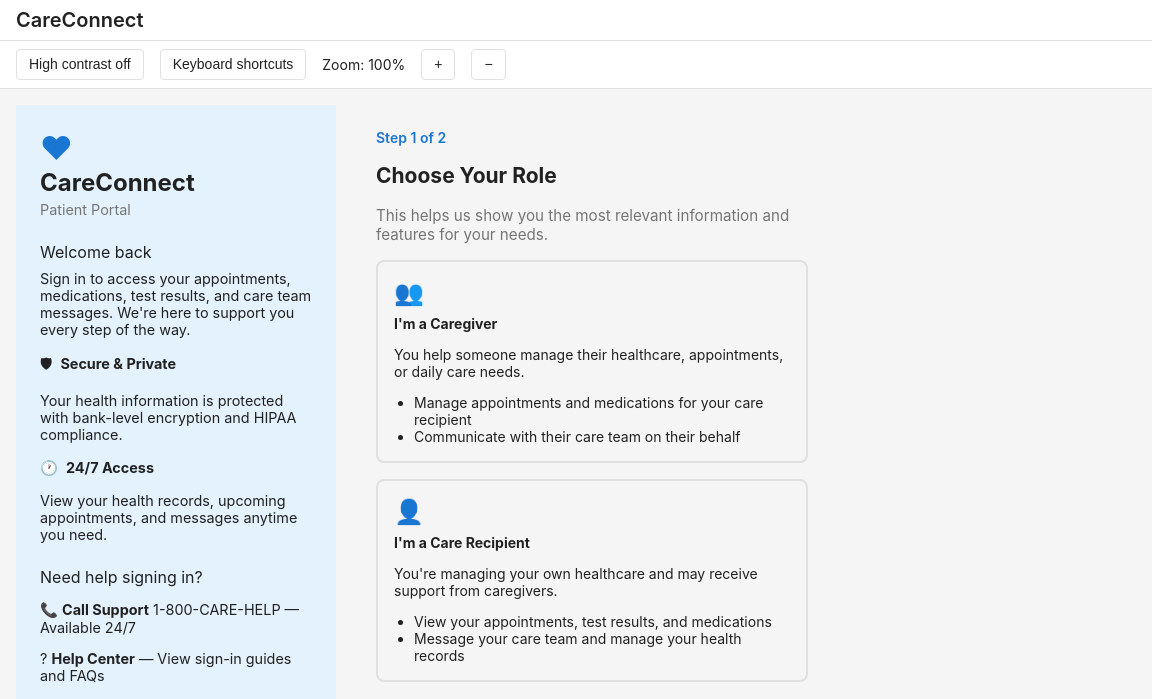
Toolbar › zoom in increases zoom display
Click the button named "zoom in".
click(438, 64)  # box [421, 49, 456, 80]
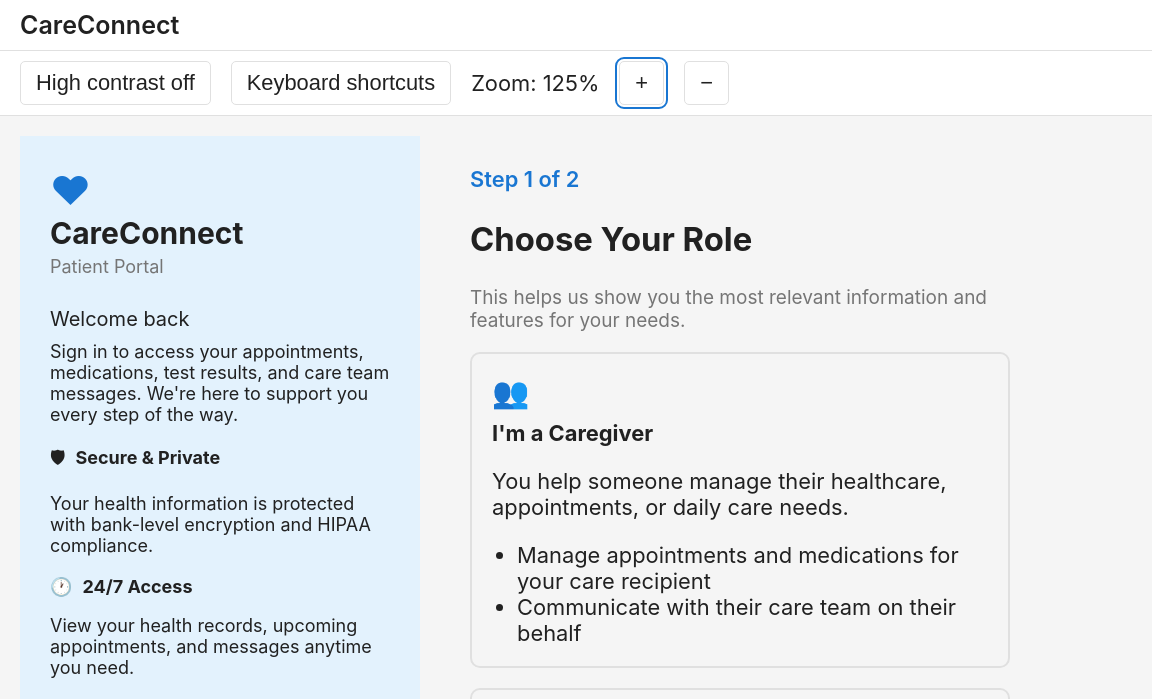
Now the text "Zoom: 125%" is shown, box [471, 70, 599, 96]
